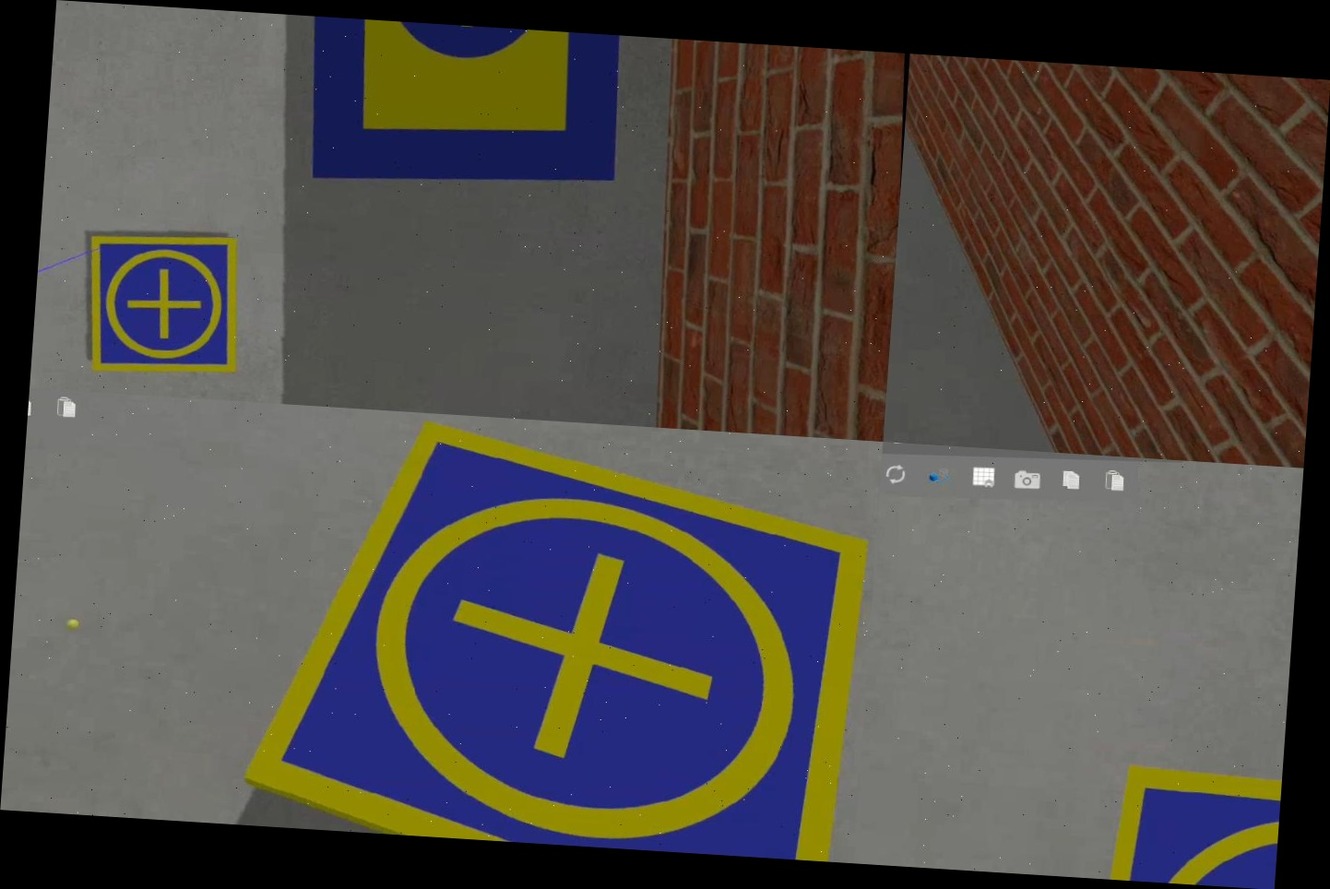large_base: (294, 16, 626, 197)
small_base: (226, 402, 883, 862), (74, 229, 248, 383)
